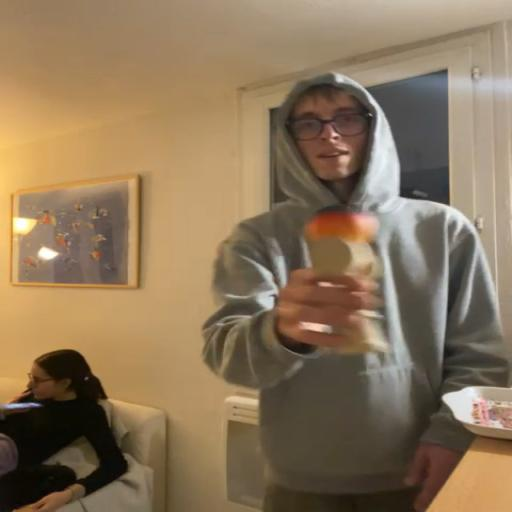kendama_ball: (302, 204, 380, 249)
